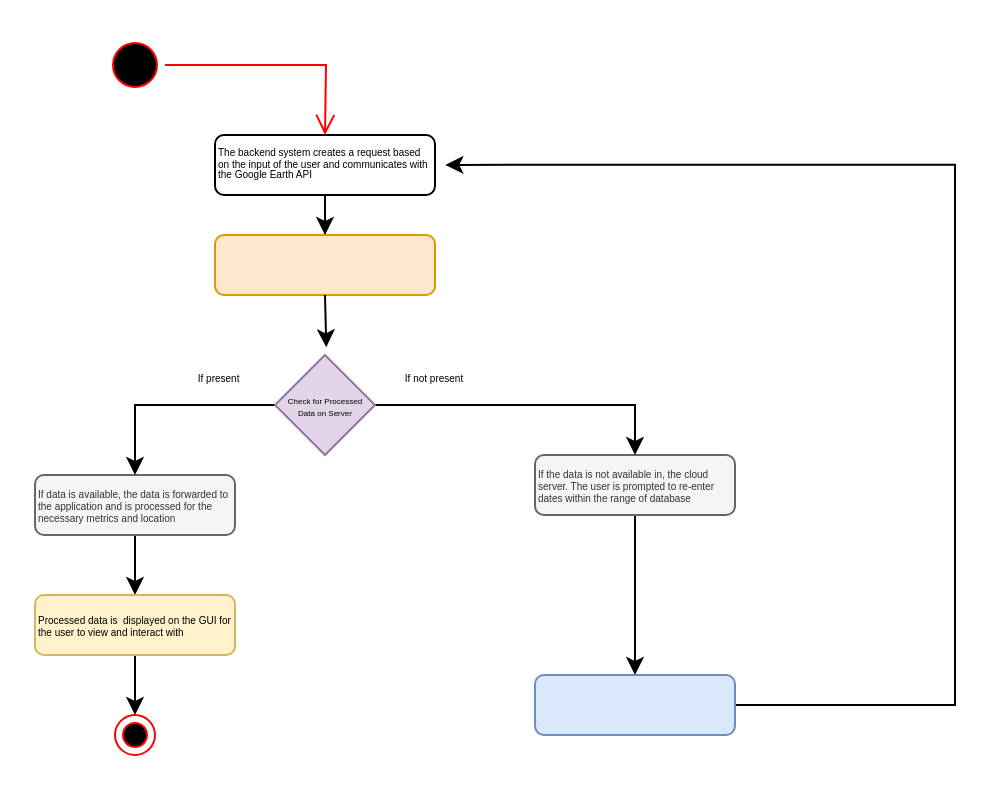
This 1006x790 diagram has some shape labels left out. The centre of each missing label's shape, as x and y in pixels:
"As data is not found, user is prompted to alter search query" belongs at point (634, 704).
"The system checks if whether requested data is available on the server" belongs at point (324, 264).
